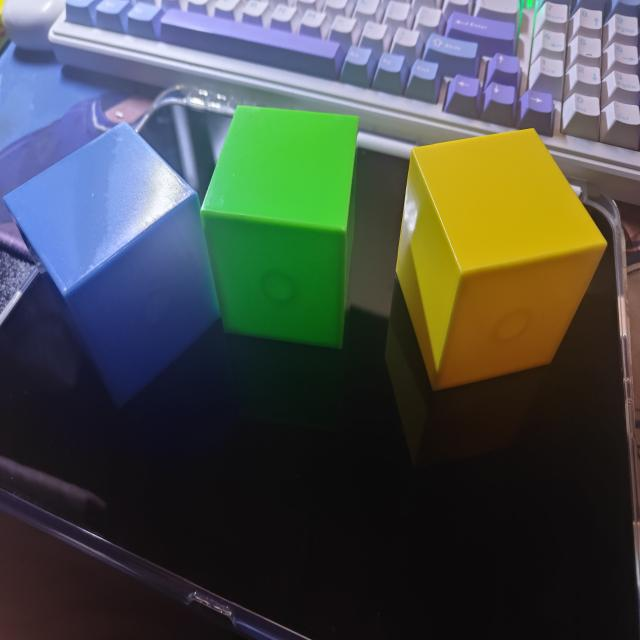blue: (3, 122, 220, 410)
green: (199, 106, 359, 354)
yellow: (395, 125, 608, 394)
